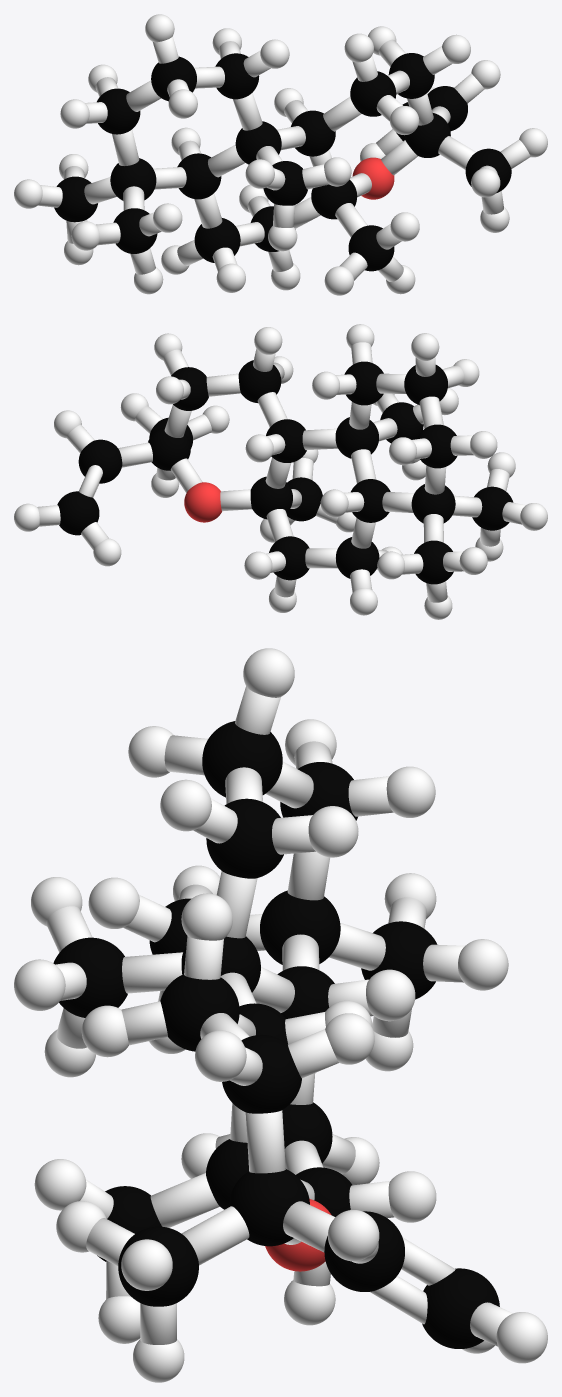
The picture shows the model from 3 angles, top to bottom: view 1: azimuth 30°, elevation 25°; view 2: azimuth 150°, elevation 25°; view 3: azimuth 270°, elevation 25°; orthographic projection. The views are drawn at different scales.
Visible parts, largest first — view 1: molecule; view 2: molecule; view 3: molecule.
Part boxes in pixels (bbox=[...]): molecule: bbox=[14, 14, 547, 295]; molecule: bbox=[14, 324, 547, 619]; molecule: bbox=[14, 648, 547, 1382].
Bounding box in the file's own units: 11.08 × 7.12 × 6.21.
